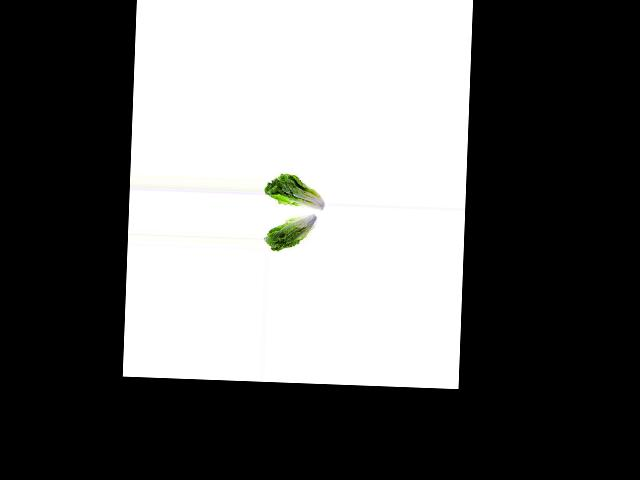lettuce: (264, 212, 323, 254)
